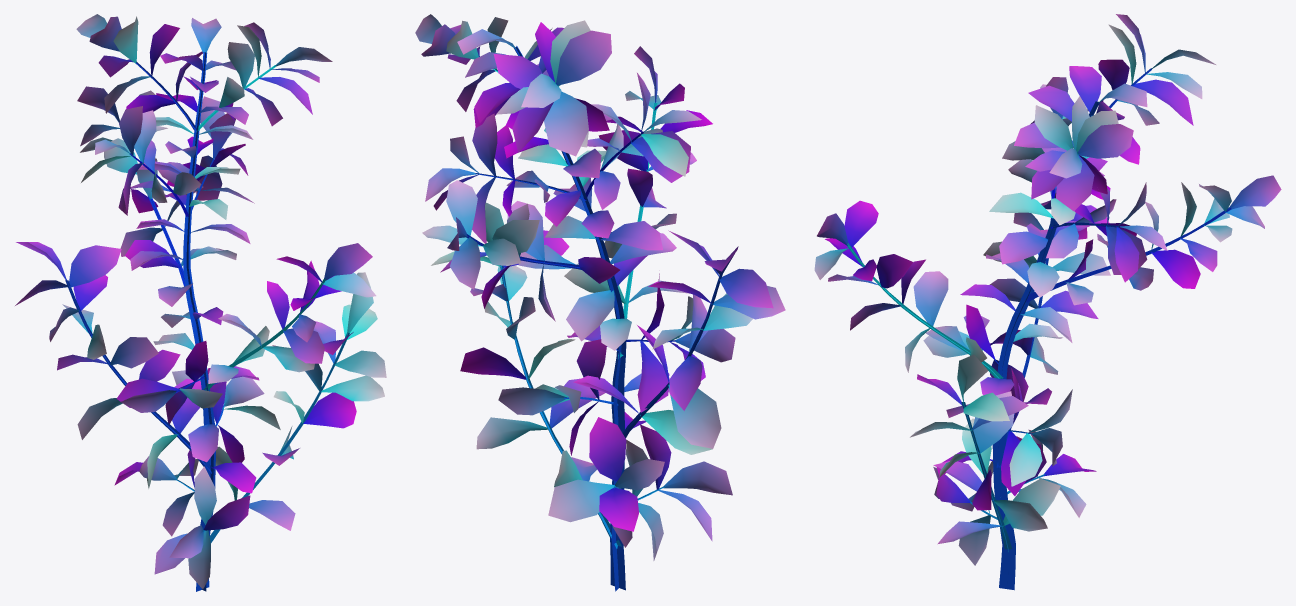
Rendered from European_Spindle_wk1ncbxja_Mid_wk1ncbxja_VarH_LOD1.fbx.
The picture shows the model from 3 angles, left to right: view 1: azimuth 30°, elevation 25°; view 2: azimuth 150°, elevation 25°; view 3: azimuth 270°, elevation 25°; orthographic projection. The views are drawn at different scales.
Visible parts, largest first — view 1: _7l8p_VarH_LOD2; view 2: _7l8p_VarH_LOD2; view 3: _7l8p_VarH_LOD2.
Boxes of the visible parts, bbox=[...] form: _7l8p_VarH_LOD2: bbox=[15, 14, 386, 591]; _7l8p_VarH_LOD2: bbox=[415, 14, 785, 591]; _7l8p_VarH_LOD2: bbox=[814, 14, 1281, 590].
Size of the model in its own units: 54.94 by 86.71 by 65.75.
